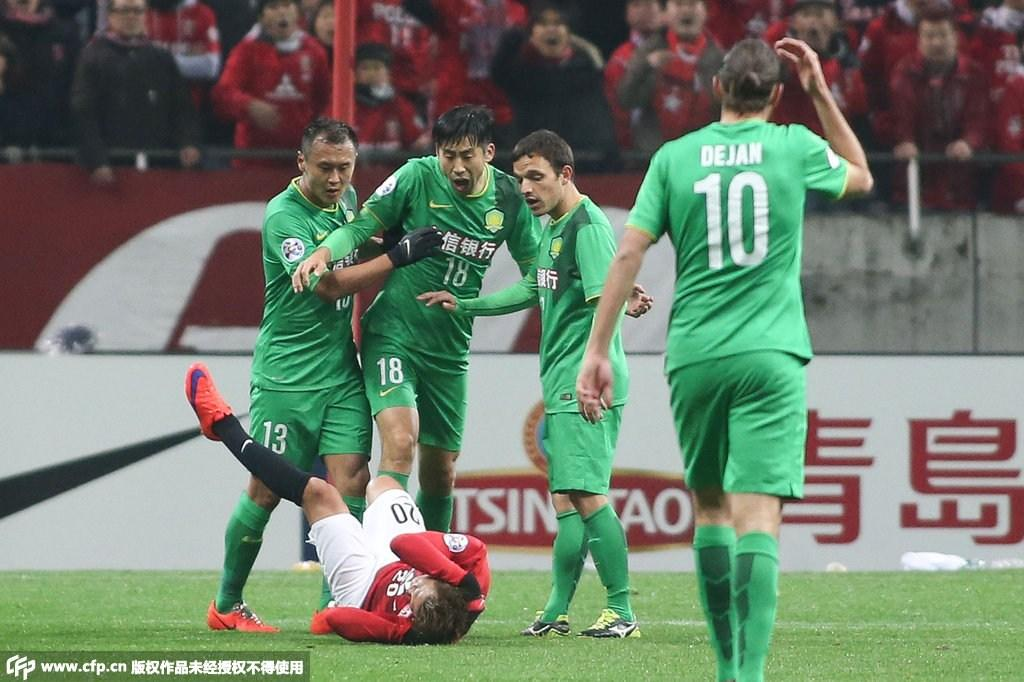down: (166, 353, 512, 647)
up: (581, 24, 880, 682), (464, 137, 661, 647), (204, 109, 365, 638), (350, 102, 529, 518)
